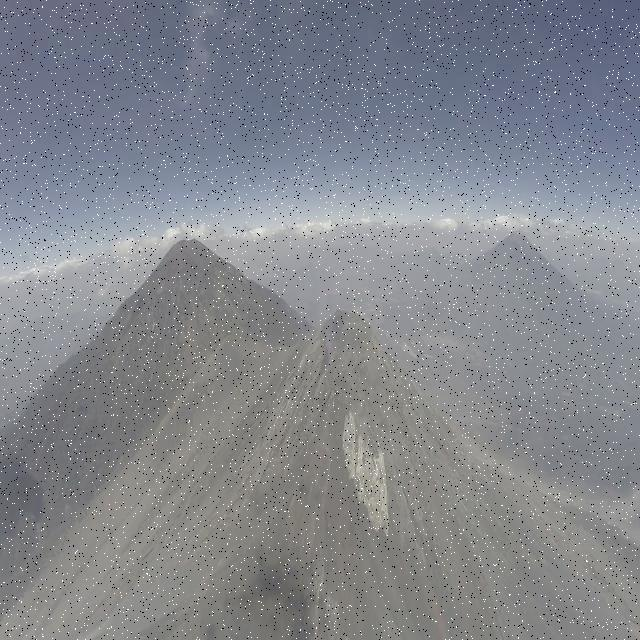Summit: (264, 306, 448, 539)
